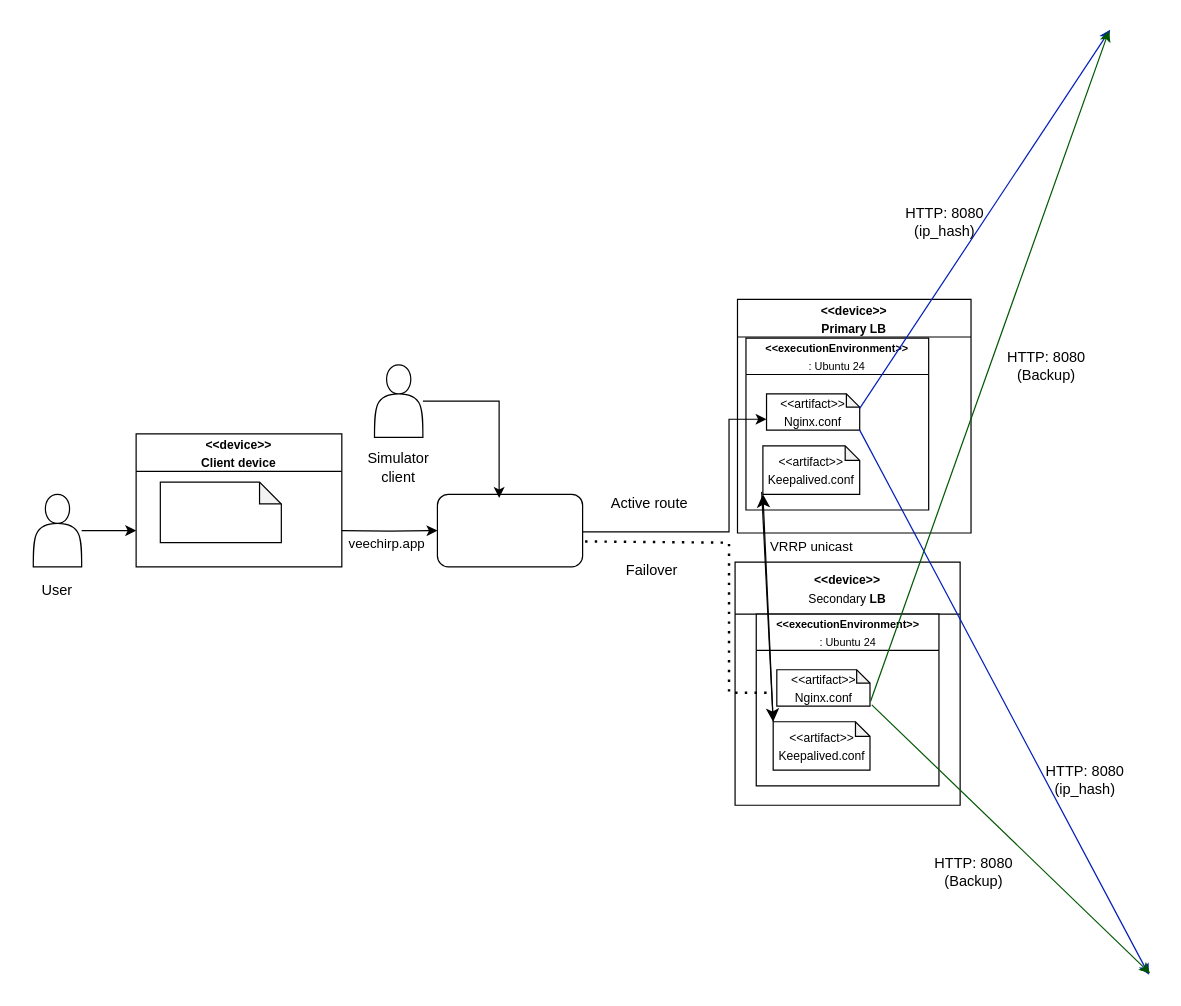
This 1181x1006 diagram has some shape labels left out. Each missing label, with the centre of its shape:
"Domain floating IP" goes at point (509, 530).
"web application" goes at point (220, 512).
